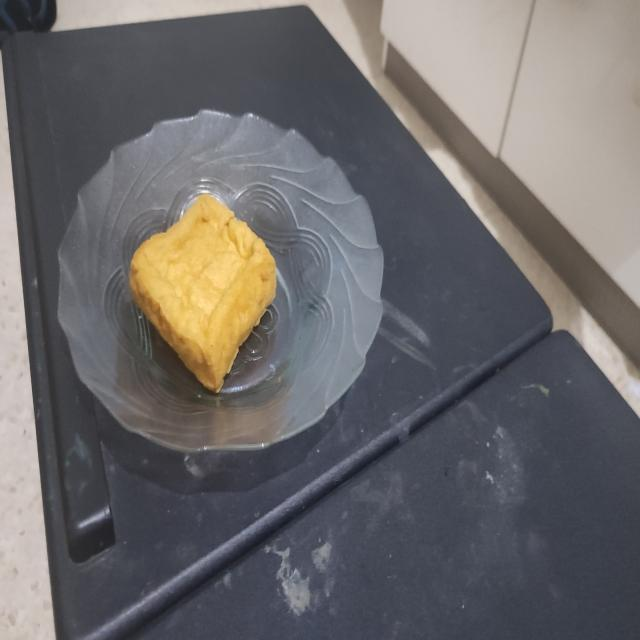tahu_goreng: (129, 194, 276, 392)
